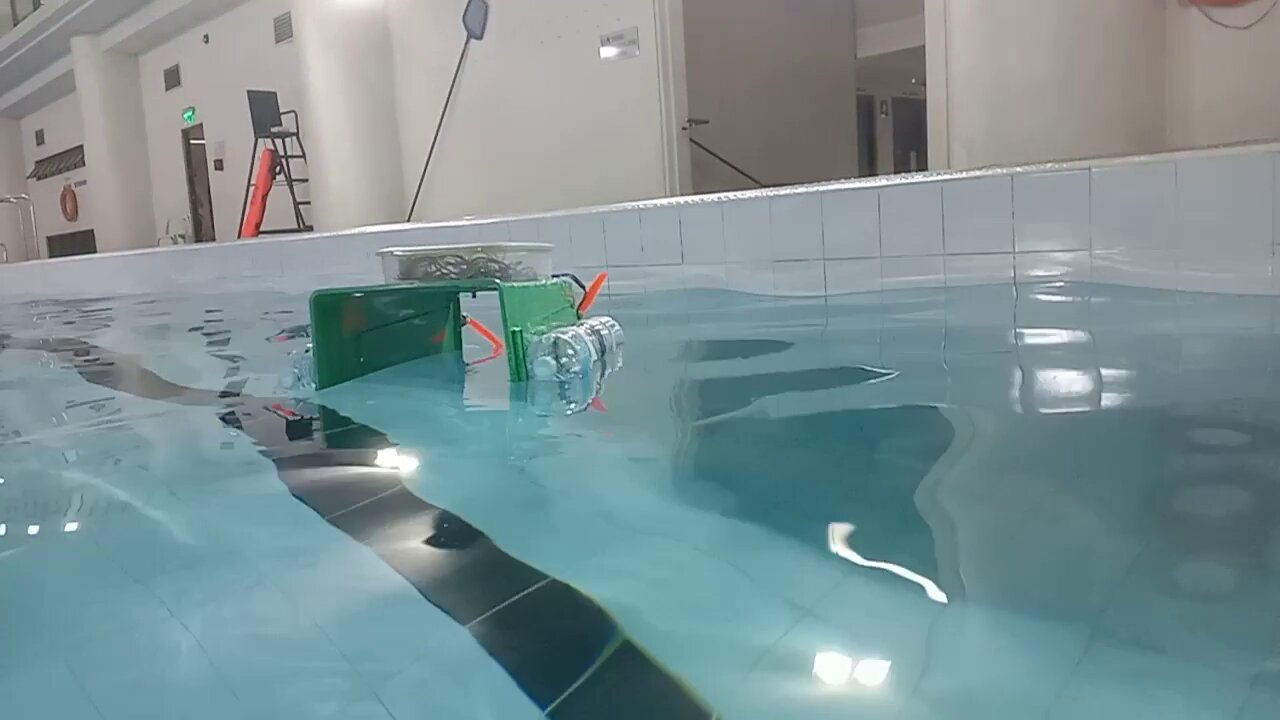drone: (277, 241, 627, 394)
